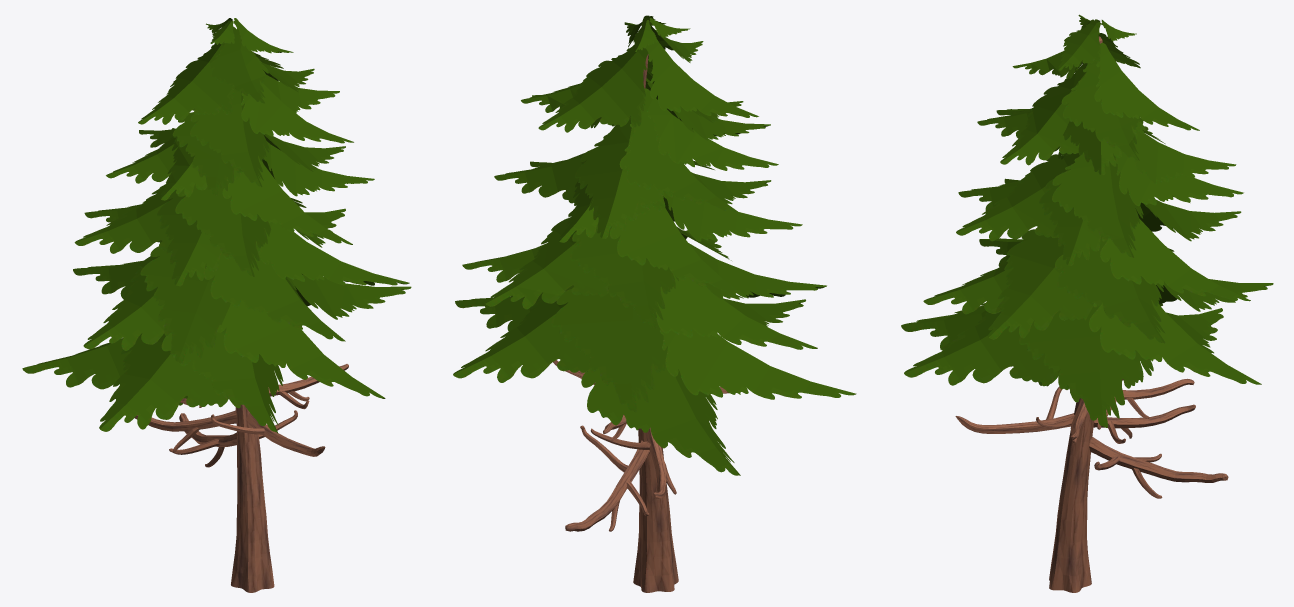
File: Pine_1.obj
The picture shows the model from 3 angles, left to right: view 1: azimuth 30°, elevation 25°; view 2: azimuth 150°, elevation 25°; view 3: azimuth 270°, elevation 25°; orthographic projection. The views are drawn at different scales.
Parts seen in each view (by area): view 1: tree.028_1, tree.028; view 2: tree.028_1, tree.028; view 3: tree.028_1, tree.028.
Part boxes in pixels (x1,y1,x2,y2): tree.028_1: (22,18,411,433); tree.028: (134,364,348,592); tree.028_1: (453,15,856,475); tree.028: (553,54,728,592); tree.028_1: (901,14,1273,427); tree.028: (955,36,1228,592).
Size of the model in its own units: 4.94 by 7.32 by 4.54.
